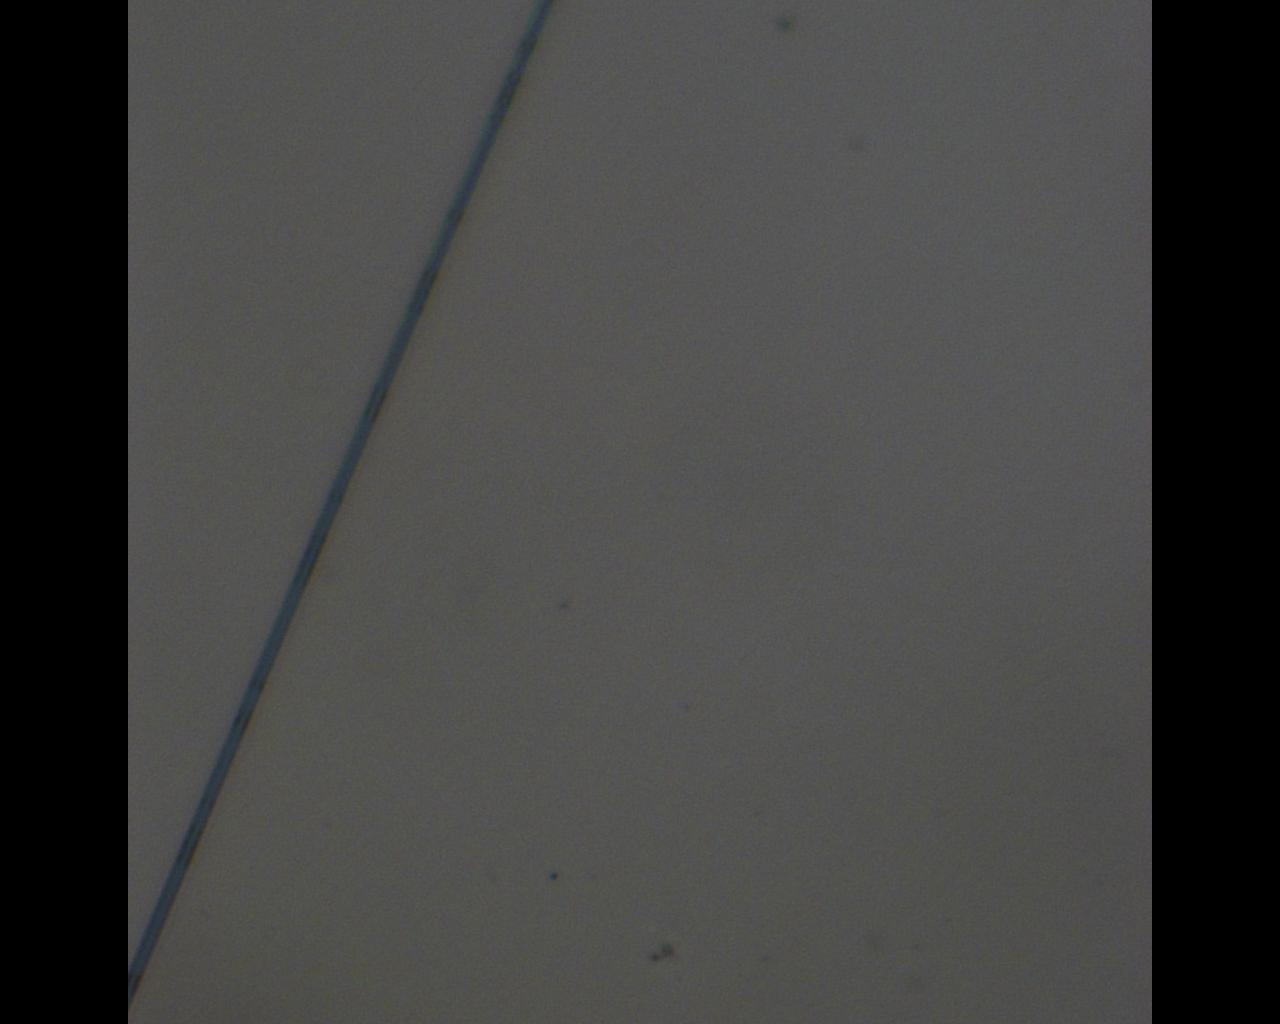fiber: (128, 0, 556, 1016)
